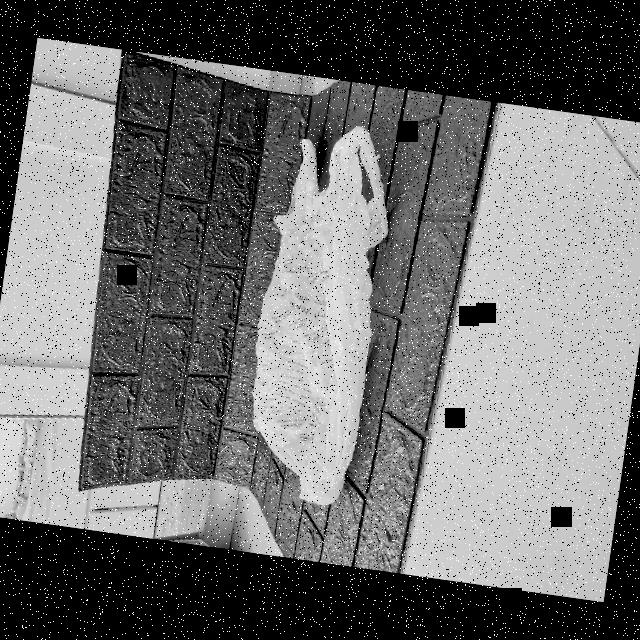plastic_bag: (184, 115, 408, 512)
